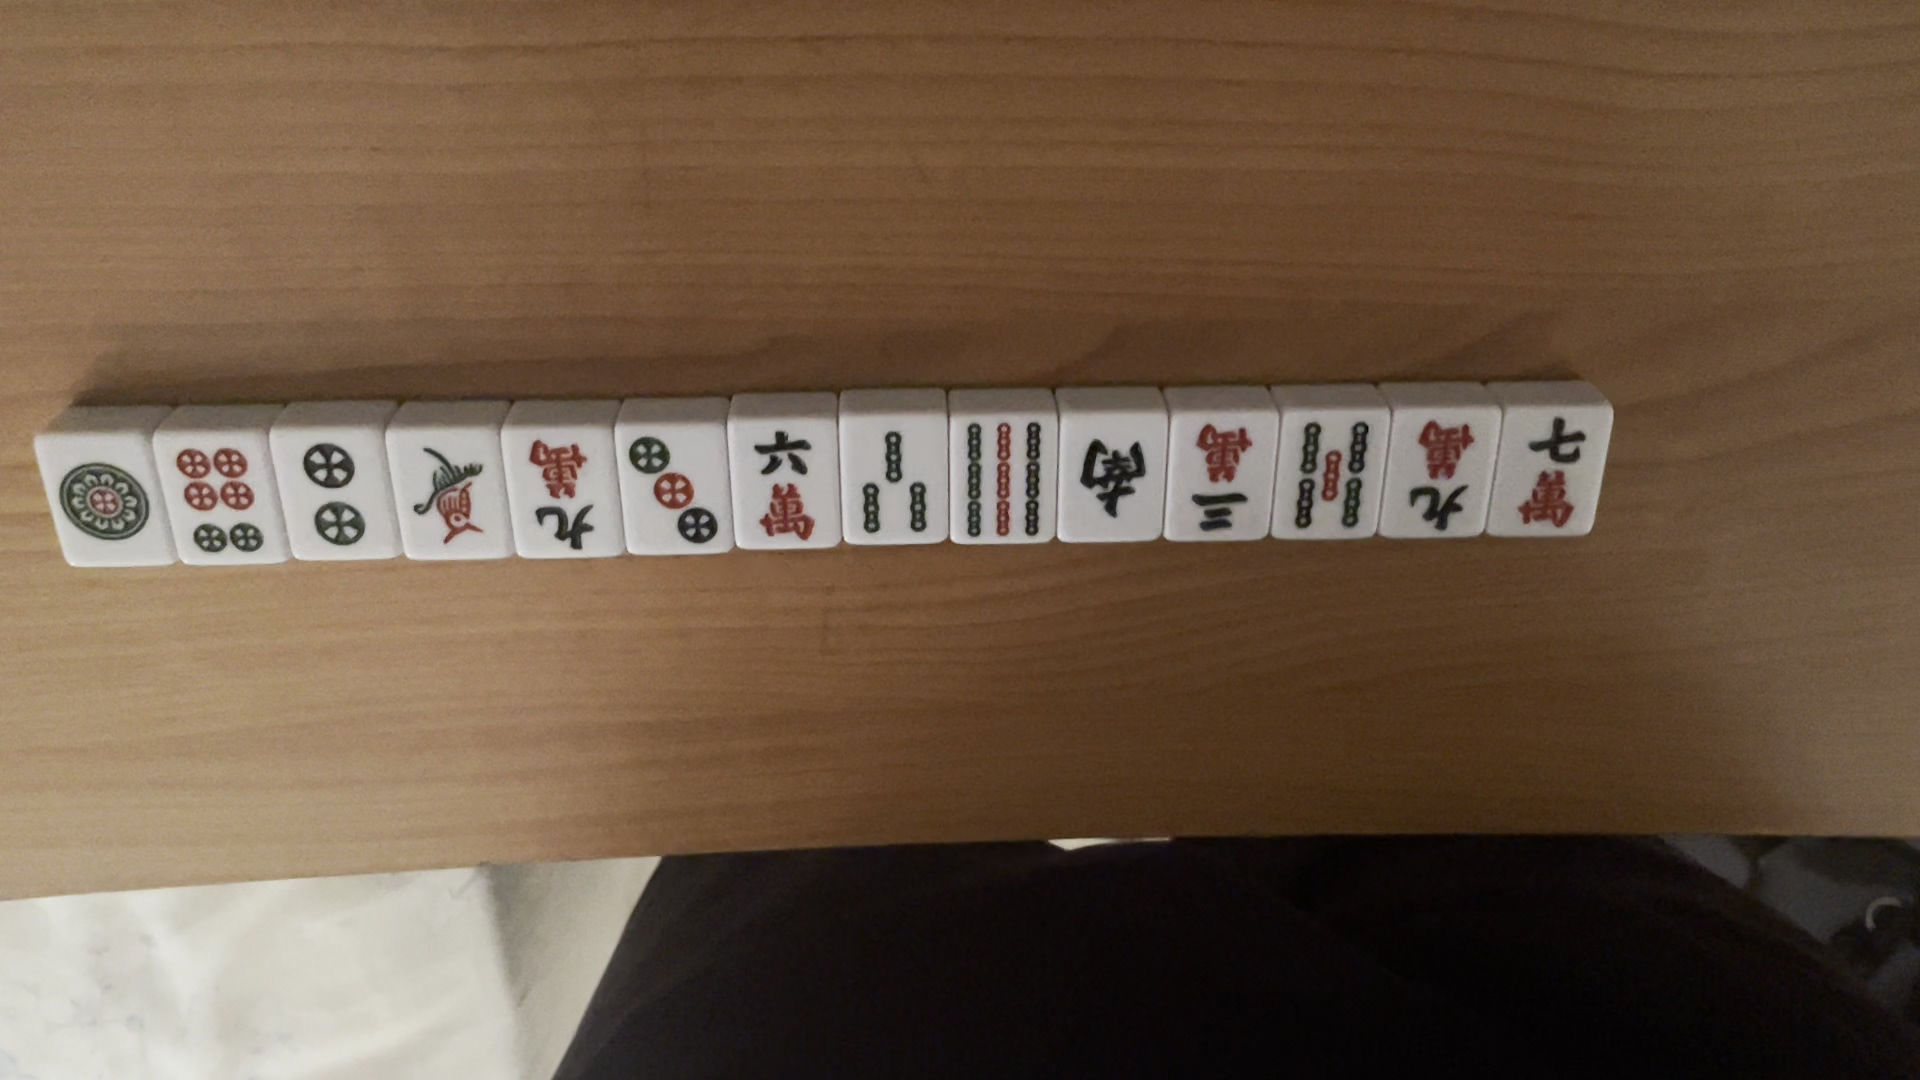b-1: (397, 440, 495, 550)
b-3: (851, 425, 932, 537)
b-5: (1290, 419, 1374, 531)
b-9: (952, 418, 1048, 545)
c-3: (1182, 418, 1257, 537)
c-6: (748, 422, 822, 543)
c-7: (1513, 411, 1586, 531)
c-9: (1389, 415, 1485, 534), (516, 435, 612, 553)
d-1: (55, 450, 154, 553)
d-2: (291, 430, 380, 560)
d-3: (625, 434, 719, 556)
d-6: (170, 443, 266, 556)
honors-south: (1073, 430, 1151, 524)
